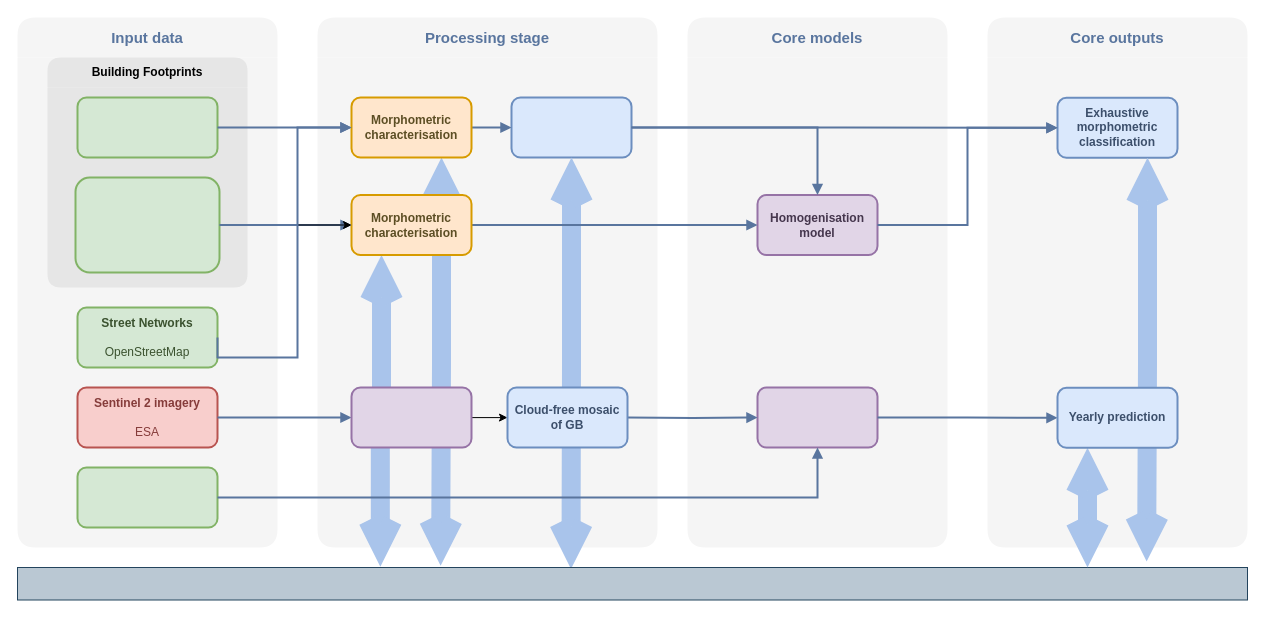
This 1265x617 diagram has some shape labels left out. Each missing label, with the centre of its shape:
"Authoritative data National data portals" goes at [147,127].
"Authoritative morphometric classification" goes at [571,127].
"Cloud-free mosaic model" goes at [411,417].
"End Users" goes at [632,583].
"Existing classification Spatial Signatures" goes at [147,497].
"NN Model" goes at [817,417].
"Substandard data Google Open Building Microsoft Building Footprints" goes at [147,224].
